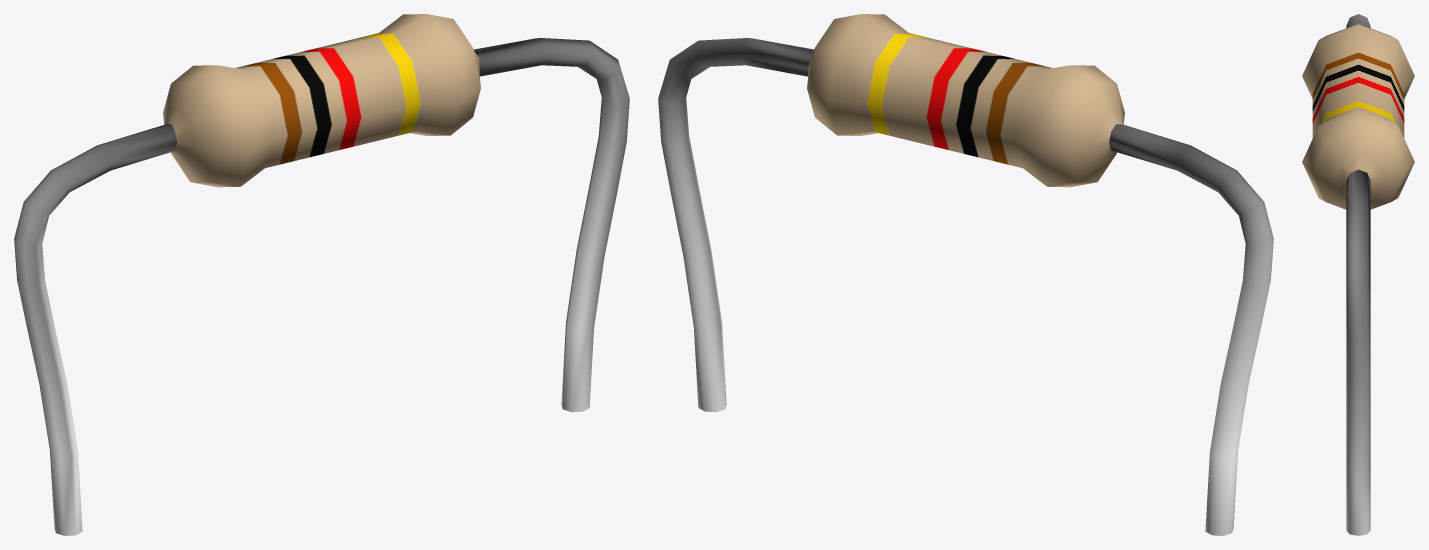
The model's file is Resistor_1K.fbx.
3 views of the same model, side by side, from view 1: azimuth 30°, elevation 25°; view 2: azimuth 150°, elevation 25°; view 3: azimuth 270°, elevation 25° (orthographic). The views are drawn at different scales.
Parts seen in each view (by area): view 1: 1K_Resistor_1_4W; view 2: 1K_Resistor_1_4W; view 3: 1K_Resistor_1_4W.
Part boxes in pixels (left/top/right/bottom): 1K_Resistor_1_4W: left=14, top=14, right=629, bottom=535; 1K_Resistor_1_4W: left=658, top=14, right=1273, bottom=535; 1K_Resistor_1_4W: left=1302, top=14, right=1414, bottom=535.
Size of the model in its own units: 0.0121 by 0.00808 by 0.0023.
